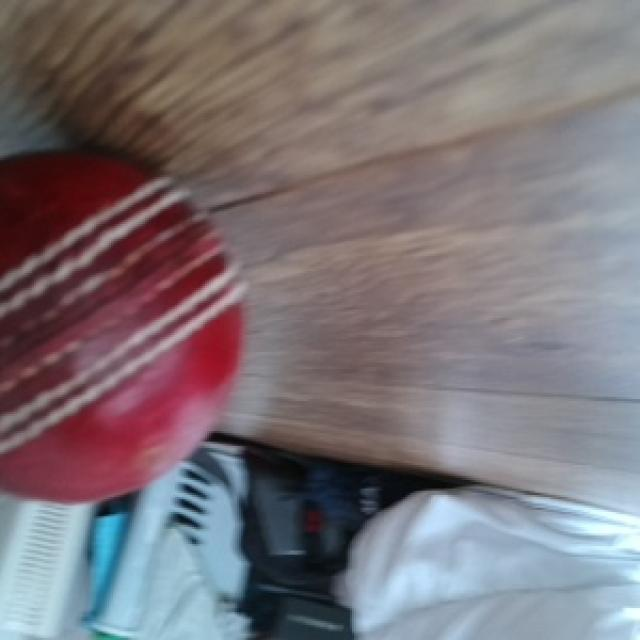ball: (0, 149, 247, 508)
